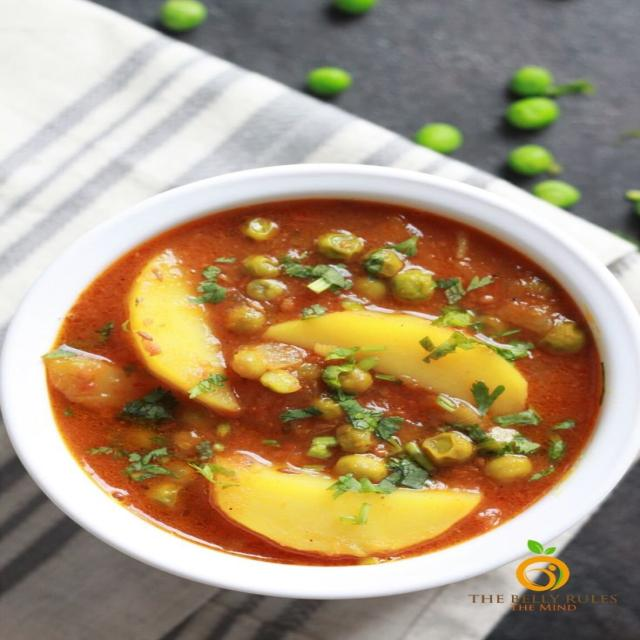aloo_matar: (90, 172, 640, 589)
